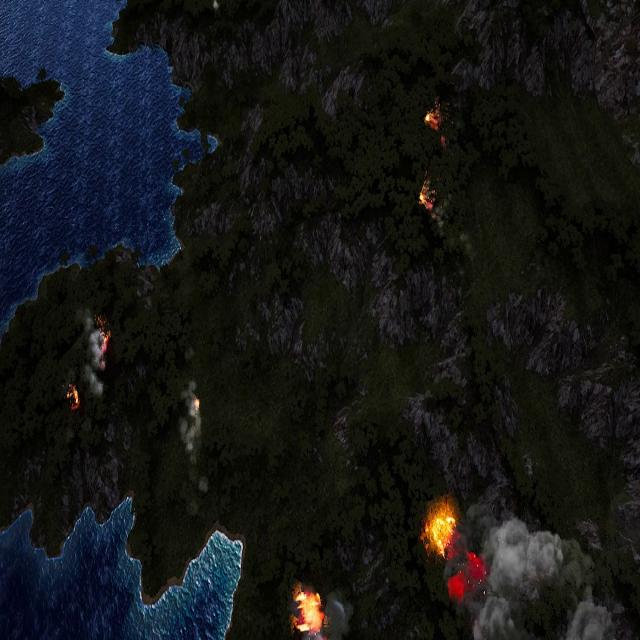fire: (424, 509, 456, 556), (292, 590, 322, 634), (424, 106, 440, 133), (418, 185, 433, 213), (66, 384, 80, 409), (102, 328, 110, 353), (193, 396, 200, 409)
smoke: (444, 508, 628, 638), (180, 370, 212, 500), (77, 306, 106, 398), (323, 590, 353, 639), (211, 0, 223, 17)
